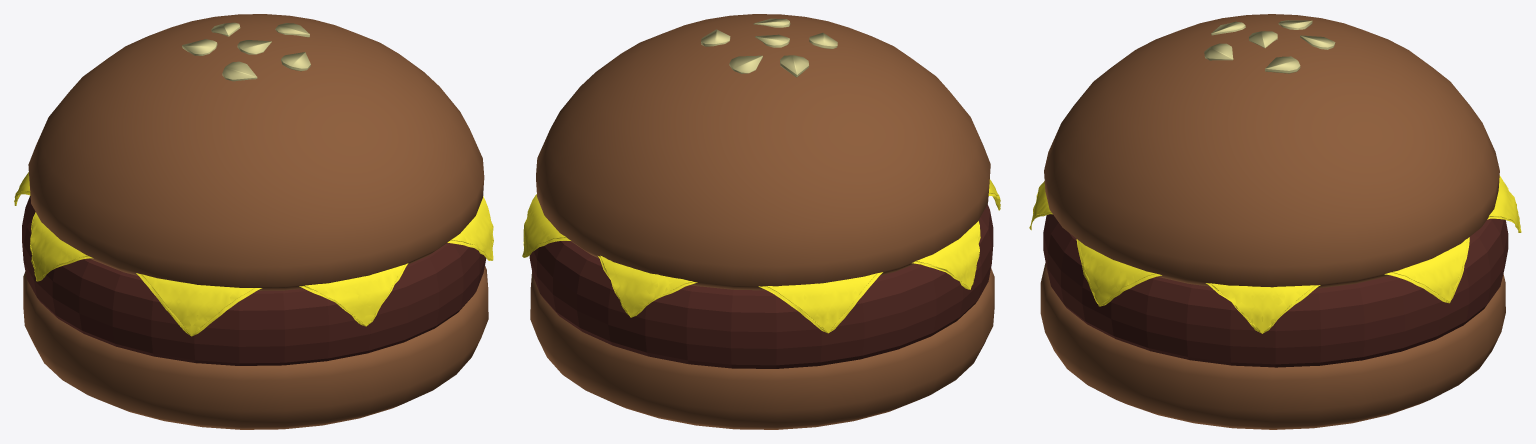
Rendered from CheeseBurger.fbx.
3 views of the same model, side by side, from view 1: azimuth 30°, elevation 25°; view 2: azimuth 150°, elevation 25°; view 3: azimuth 270°, elevation 25° (orthographic).
Visible parts, largest first — view 1: BurgerBun.001, Cylinder.001, Cylinder, Cube.001, Cube.002; view 2: BurgerBun.001, Cylinder, Cylinder.001, Cube.001, Cube.002; view 3: BurgerBun.001, Cylinder, Cylinder.001, Cube.001, Cube.002.
Part boxes in pixels (x1,y1,x2,y2): BurgerBun.001: [23, 14, 488, 429]; Cylinder.001: [23, 243, 486, 365]; Cylinder: [22, 195, 485, 365]; Cube.001: [14, 172, 493, 336]; Cube.002: [30, 212, 408, 326]; BurgerBun.001: [530, 14, 994, 429]; Cylinder: [529, 230, 993, 368]; Cylinder.001: [540, 204, 993, 368]; Cube.001: [522, 179, 1000, 333]; Cube.002: [598, 221, 980, 317]; BurgerBun.001: [1040, 14, 1505, 429]; Cylinder: [1068, 218, 1508, 367]; Cylinder.001: [1043, 214, 1507, 366]; Cube.001: [1076, 237, 1469, 306]; Cube.002: [1029, 175, 1521, 333].
Bounding box in the file's own units: 133 × 89.81 × 133.
